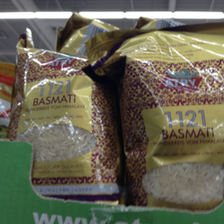rice: (7, 33, 123, 203), (117, 29, 224, 209)
